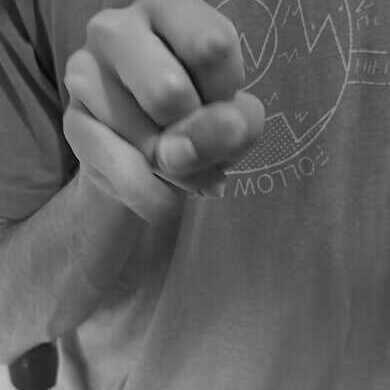J: (58, 1, 269, 228)
